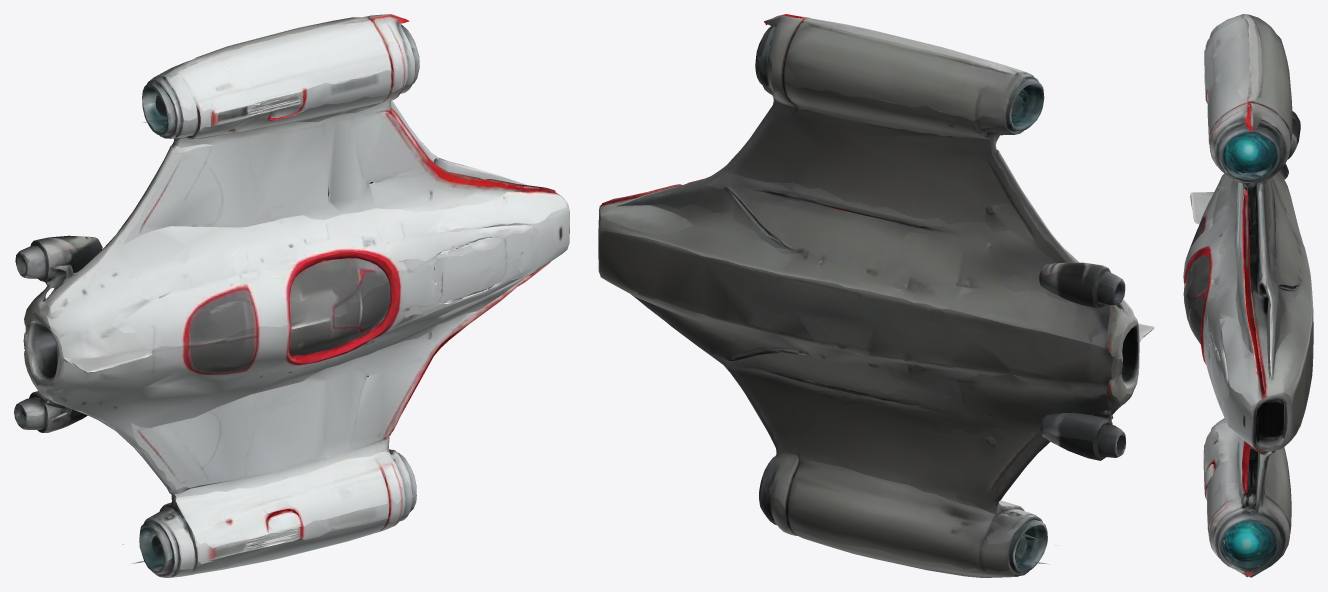
Rendered from corvette.glb.
The picture shows the model from 3 angles, left to right: view 1: azimuth 30°, elevation 25°; view 2: azimuth 150°, elevation 25°; view 3: azimuth 270°, elevation 25°; orthographic projection. The views are drawn at different scales.
Parts seen in each view (by area): view 1: f4_corvette.glb; view 2: f4_corvette.glb; view 3: f4_corvette.glb.
Boxes of the visible parts, x1,y1,x2,y2 form: f4_corvette.glb: [14, 14, 569, 577]; f4_corvette.glb: [598, 14, 1154, 577]; f4_corvette.glb: [1183, 14, 1313, 577].
Size of the model in its own units: 0.9997 by 0.9298 by 0.2313.
Materials: 1 (1 with a texture image).
